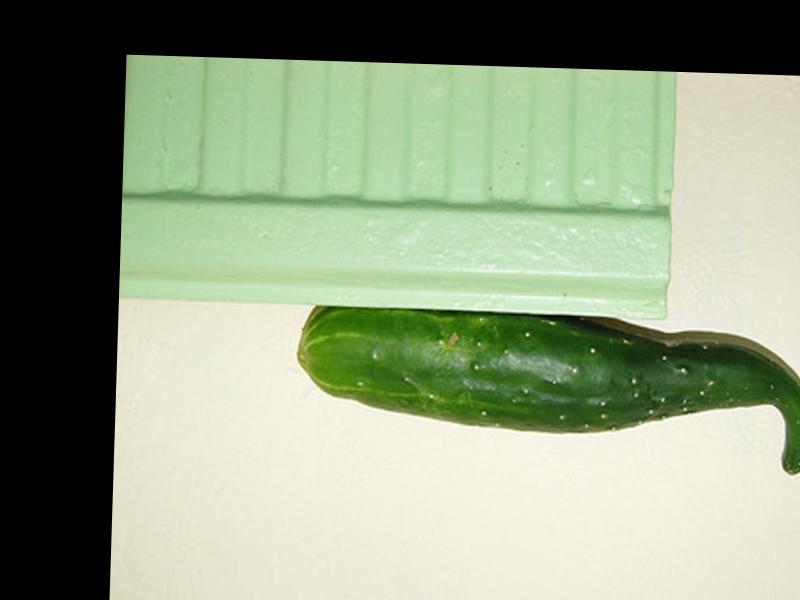Cucumber: (295, 304, 800, 474)
